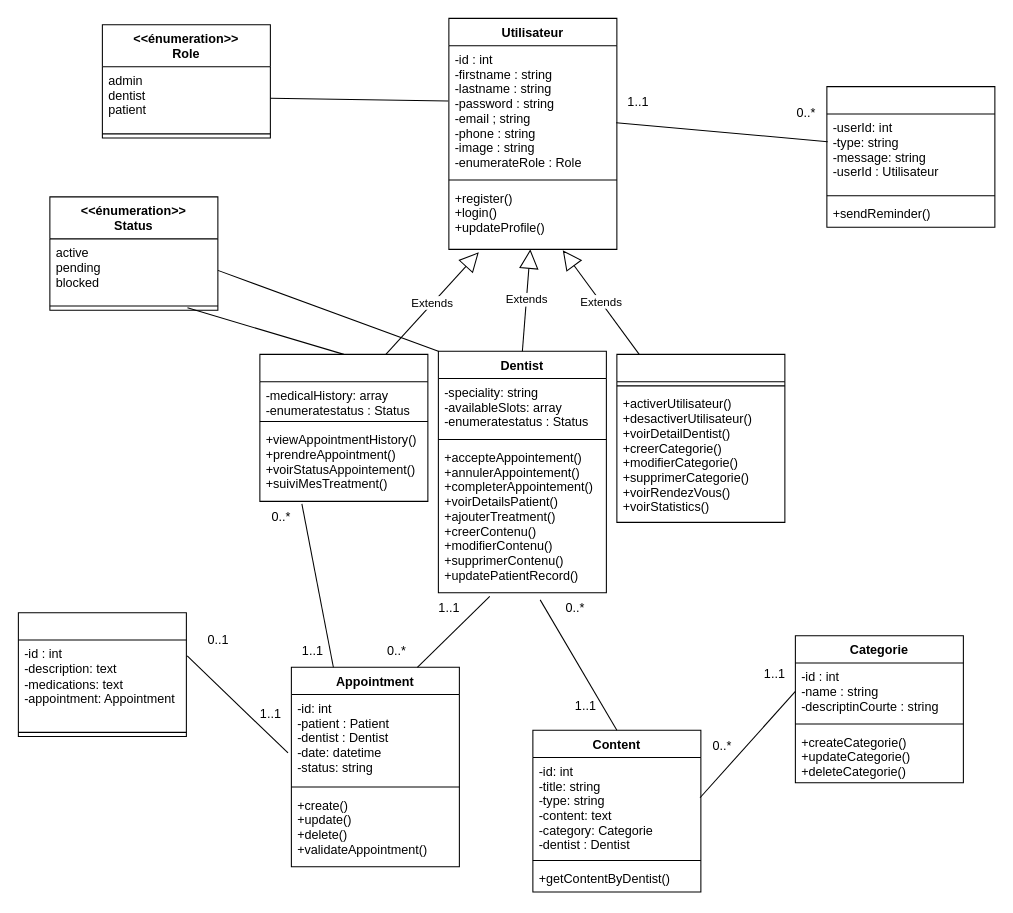
This 1013x913 diagram has some shape labels left out. Each missing label, with the box of its shape:
Admin: (616, 353, 785, 522)
Notification: (826, 86, 995, 227)
Patient: (259, 353, 428, 501)
treatment: (17, 612, 186, 737)
